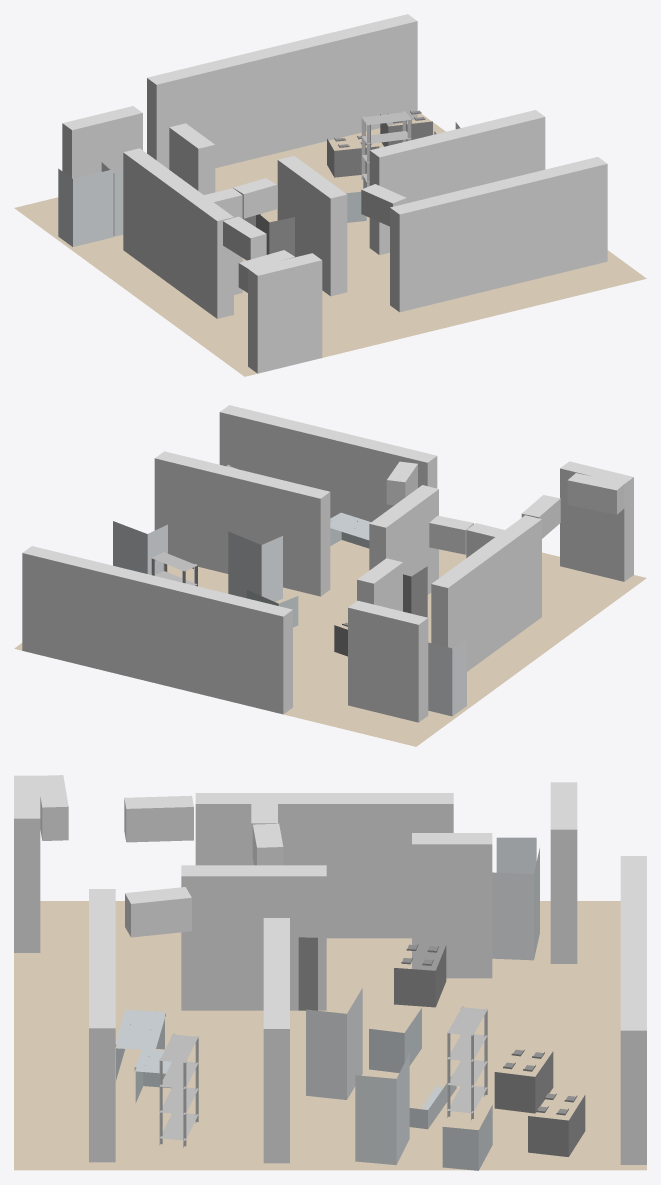
The picture shows the model from 3 angles, top to bottom: view 1: azimuth 30°, elevation 25°; view 2: azimuth 150°, elevation 25°; view 3: azimuth 270°, elevation 25°; orthographic projection. The views are drawn at different scales.
Visible parts, largest first — view 1: wall_8, floor, wall_5, wall_4, wall_6, wall_1, wall_2, wall_7, ocr_refrigerator_12, wall_9, door_lintel_2, ocr_shelf_10 (+8 smaller); view 2: wall_8, floor, wall_6, wall_5, wall_4, wall_7, wall_1, wall_2, ocr_refrigerator_5, ocr_refrigerator_12, ocr_refrigerator_6, door_lintel_1 (+9 smaller); view 3: floor, wall_4, wall_2, wall_9, wall_8, wall_5, wall_6, wall_7, ocr_refrigerator_5, wall_1, ocr_refrigerator_6, ocr_refrigerator_13 (+17 smaller).
Boxes of the visible parts, box(x1,y1,x2,y2) form: wall_8: box(147, 14, 417, 169); floor: box(14, 113, 646, 376); wall_5: box(390, 157, 607, 312); wall_4: box(123, 148, 233, 318); wall_6: box(369, 110, 545, 254); wall_1: box(248, 253, 322, 373); wall_2: box(277, 156, 347, 296); wall_7: box(62, 106, 142, 178); ocr_refrigerator_12: box(58, 168, 113, 246); wall_9: box(169, 123, 215, 194); door_lintel_2: box(223, 216, 266, 260); ocr_shelf_10: box(361, 111, 411, 182); wall_8: box(22, 546, 292, 714); floor: box(14, 540, 646, 746); wall_6: box(154, 451, 330, 596); wall_5: box(219, 405, 437, 521); wall_4: box(431, 515, 541, 671); wall_7: box(348, 600, 428, 722); wall_1: box(560, 461, 633, 581); wall_2: box(369, 485, 438, 594); ocr_refrigerator_5: box(228, 531, 282, 601); ocr_refrigerator_12: box(428, 638, 466, 716); ocr_refrigerator_6: box(113, 521, 167, 574); door_lintel_1: box(567, 473, 624, 514); floor: box(14, 901, 646, 1170); wall_4: box(195, 793, 453, 938); wall_2: box(181, 865, 326, 1010); wall_9: box(412, 833, 492, 978); wall_8: box(620, 856, 646, 1164); wall_5: box(89, 889, 115, 1162); wall_6: box(263, 918, 289, 1163); wall_7: box(550, 782, 577, 963); ocr_refrigerator_5: box(306, 988, 362, 1099); wall_1: box(14, 775, 40, 952); ocr_refrigerator_6: box(355, 1053, 409, 1164); ocr_refrigerator_13: box(492, 848, 539, 960).
Size of the model in its own units: 12.07 by 2.8 by 11.97.
